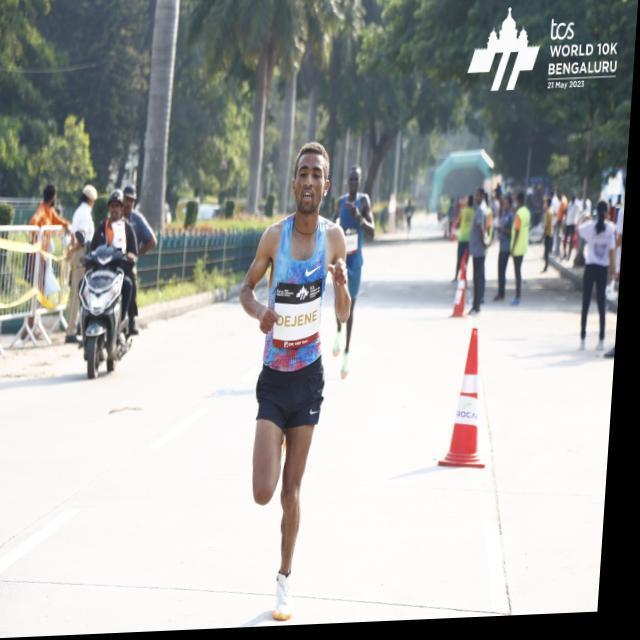dorsal: (273, 276, 332, 355)
